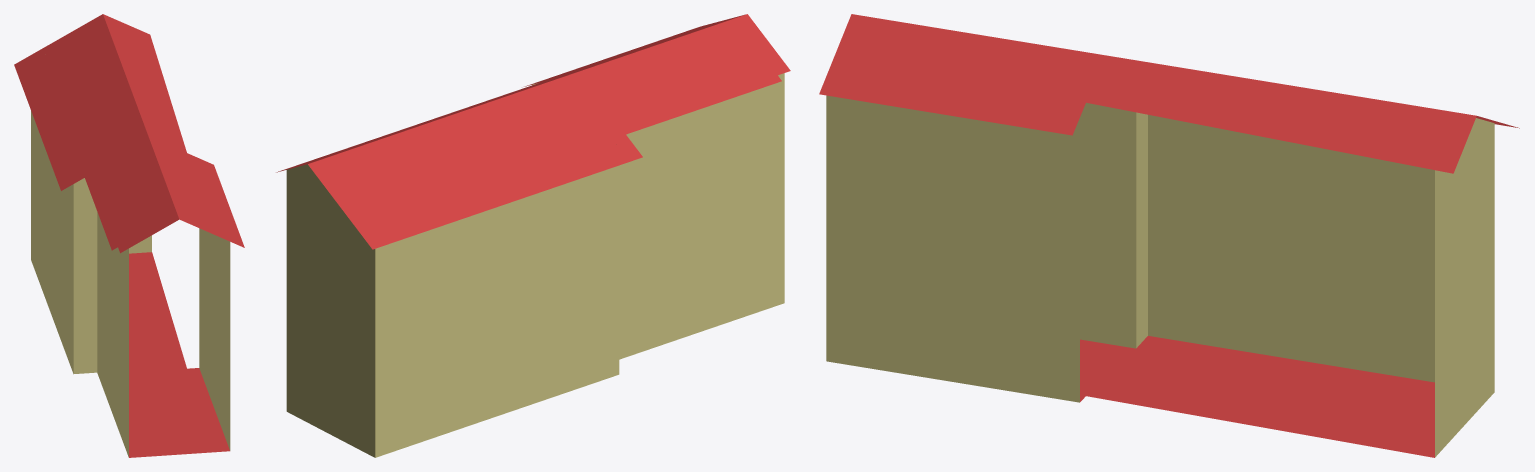
3 renders of one model, left to right at view 1: azimuth 30°, elevation 25°; view 2: azimuth 150°, elevation 25°; view 3: azimuth 270°, elevation 25°, orthographic. The views are drawn at different scales.
Size of the model in its own units: 9.33 by 17.3 by 8.7.
